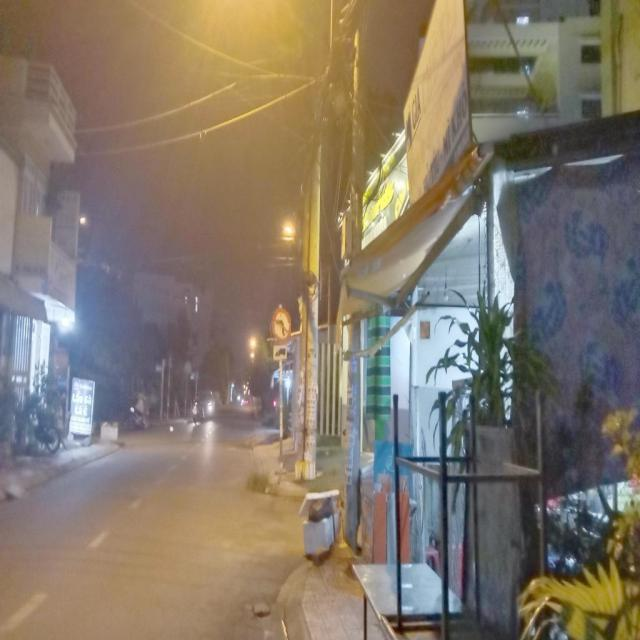cam_re_trai: (269, 308, 291, 345)
khac: (274, 346, 287, 361)
